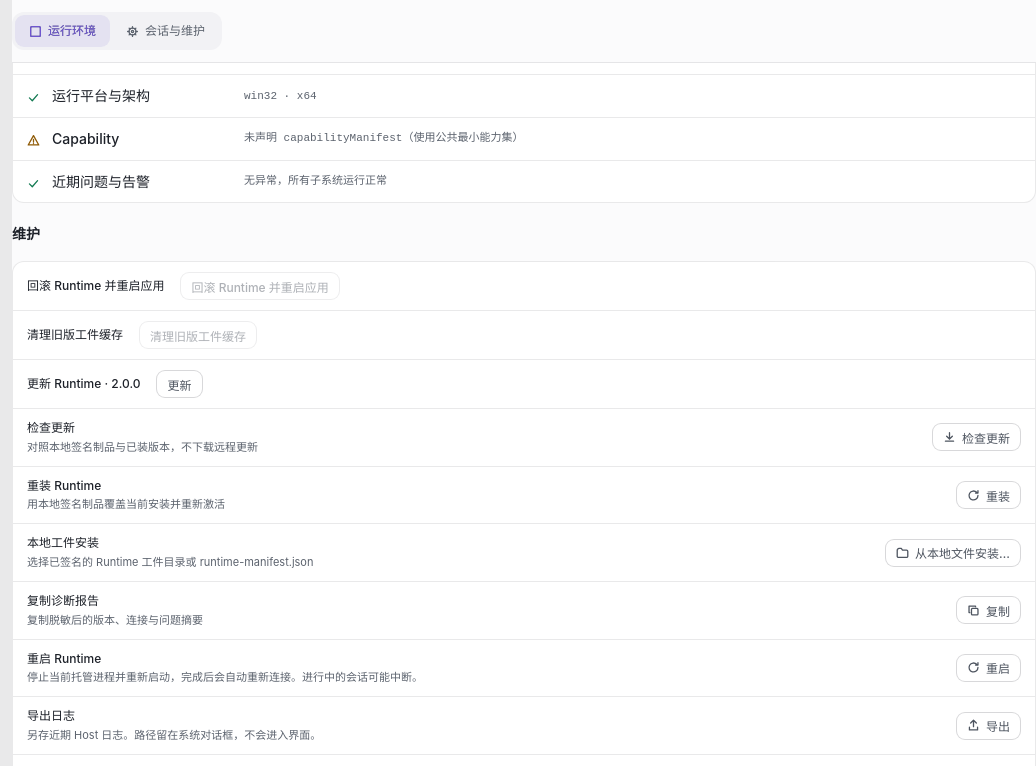
Test case: Runtime installation handoff › keeps the downloaded artifact channel even when preferences now select stable
What coordinates should you click on to do the following:
click the button "更新"
I would click on:
 (180, 384)
Its box is [156,370,202,398].
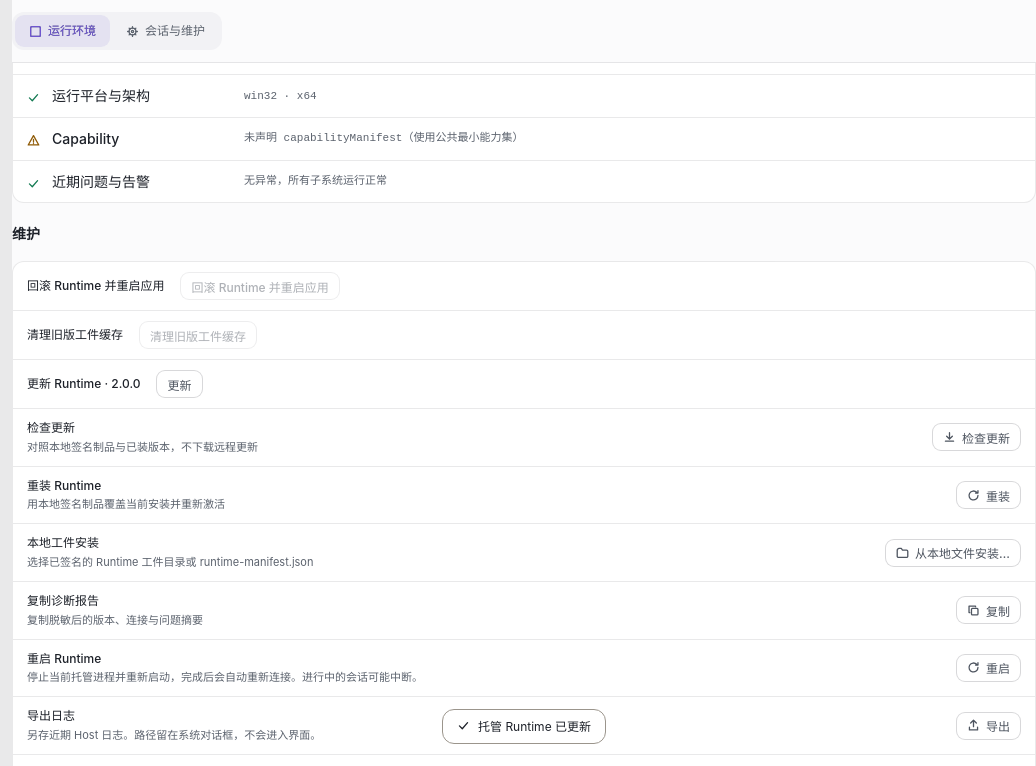
Expected: the text "托管 Runtime 已更新" is shown, [478,718,591,735]
